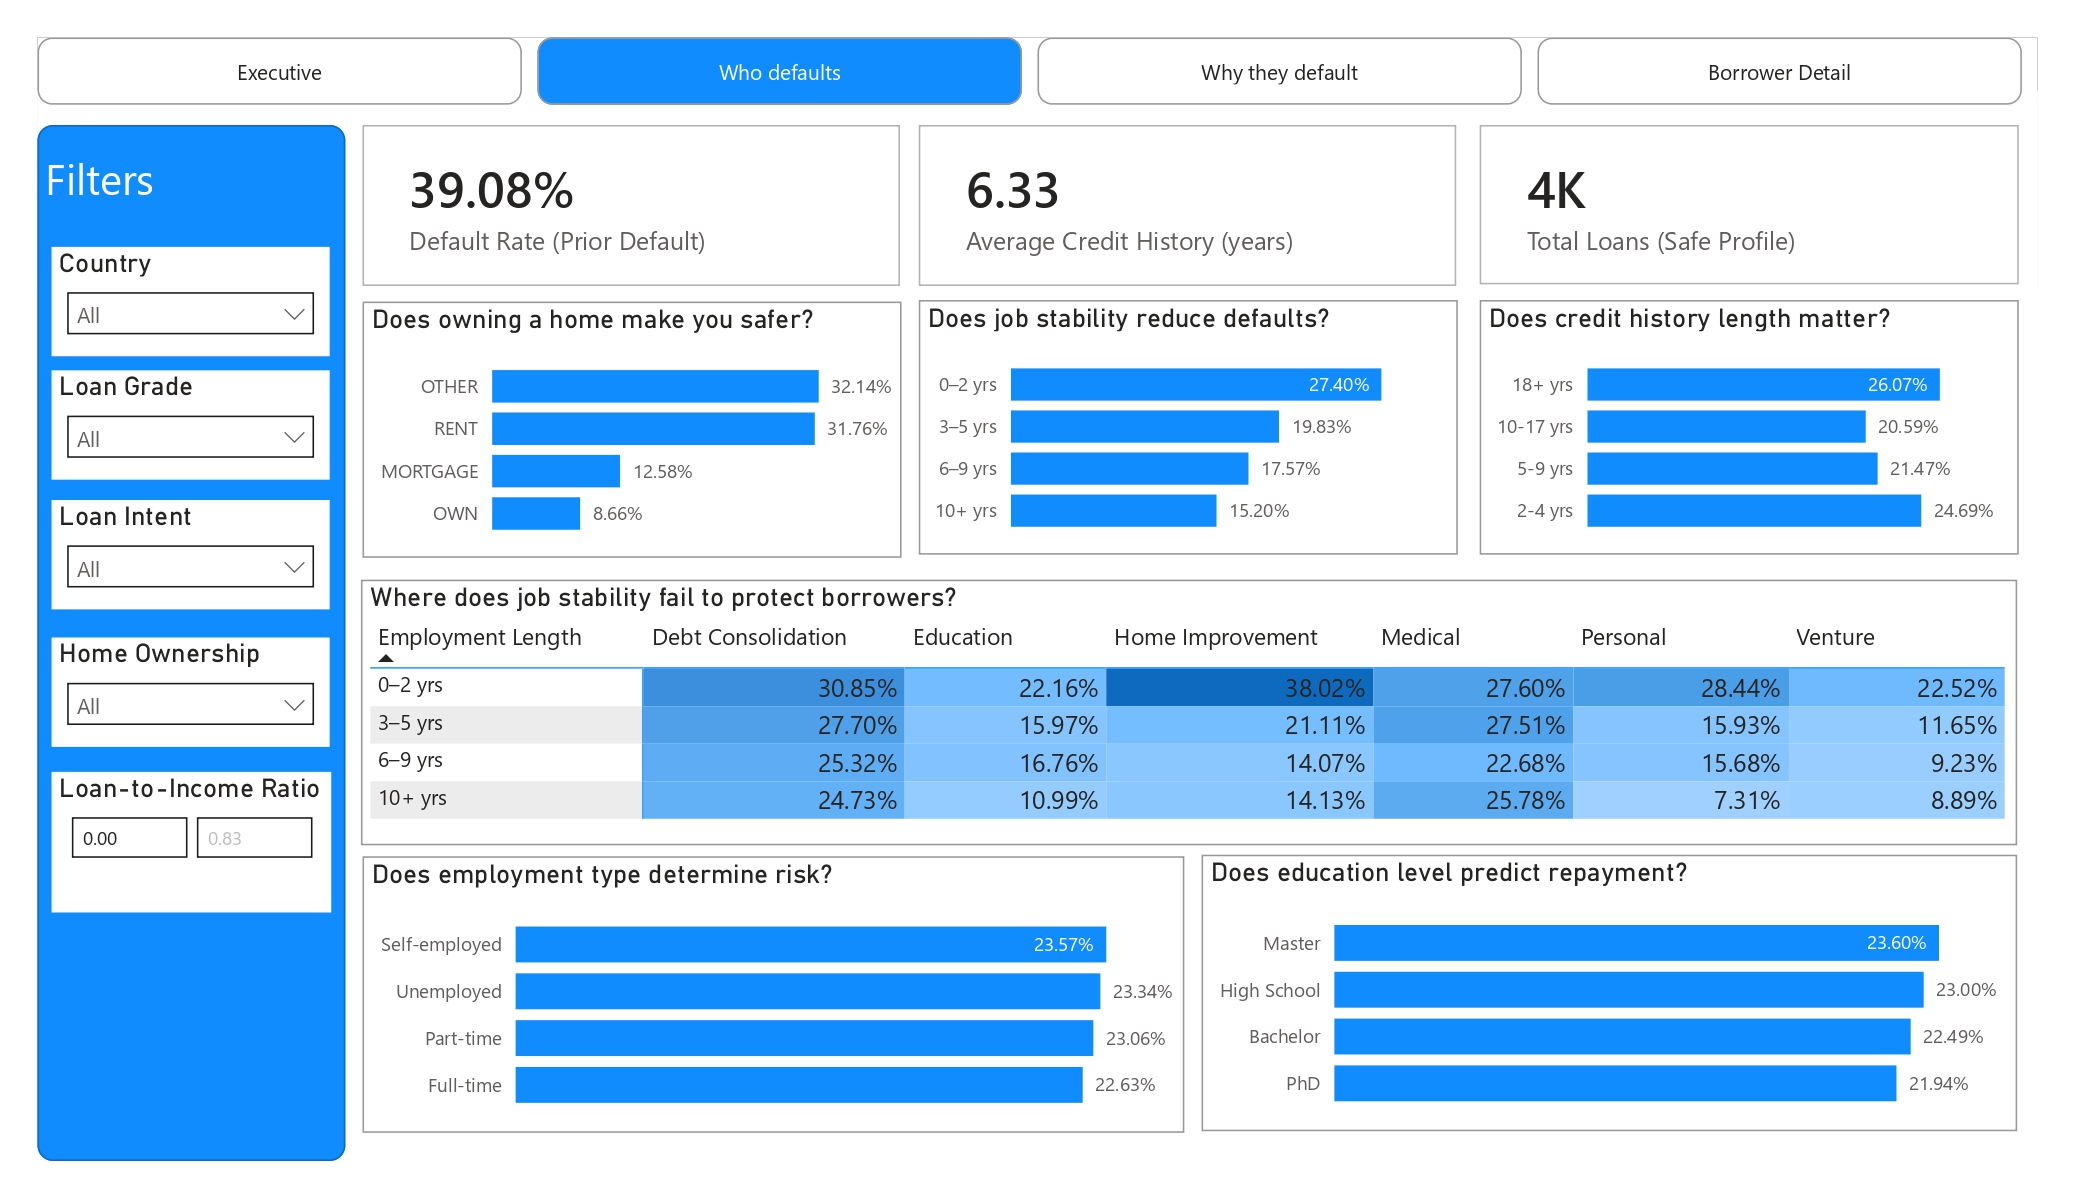

The page's visual inventory and layout, read from the dashboard file:
{"tool":"powerbi","page":{"name":"Who defaults","canvas":[1280,720],"ordinal":1},"visuals":[{"type":"shape","box":[0,55.7,197.1,662.9],"z":0},{"type":"cardVisual","fields":{"Data":["_Measures.Default Rate (Prior Default)"]},"box":[207.7,56,344.6,103.2],"z":2000},{"type":"cardVisual","fields":{"Data":["_Measures.Average Credit History"]},"box":[563.5,56,344.6,103.2],"z":3000},{"type":"clusteredBarChart","title":"Does education level predict repayment?","fields":{"Category":["Dim_Borrower.education_level"],"Y":["_Measures.Default Rate %"]},"box":[745,523.3,521.7,176.7],"z":4000},{"type":"clusteredBarChart","title":"Does job stability reduce defaults?","fields":{"Category":["Dim_Borrower.Emp_Length_Bucket"],"Y":["_Measures.Default Rate %"]},"box":[563.8,167.5,345,163.8],"z":5000},{"type":"cardVisual","fields":{"Data":["_Measures.Total Loans (Safe Profile)"]},"box":[923,56,344.6,102],"z":6000},{"type":"pageNavigator","box":[0,0,1272.9,42.9],"z":7000},{"type":"clusteredBarChart","title":"Does owning a home make you safer?","fields":{"Category":["Dim_Borrower.person_home_ownership"],"Y":["_Measures.Default Rate"]},"box":[207.5,168.8,345,163.8],"z":8000},{"type":"slicer","title":"Loan Grade","fields":{"Values":["Dim_Loan_Type.loan_grade"]},"box":[8.6,212.9,178.6,70],"z":9000},{"type":"slicer","title":"Loan Intent","fields":{"Values":["Dim_Loan_Type.loan_intent"]},"box":[8.6,295.7,178.6,70],"z":10000},{"type":"slicer","title":"Home Ownership","fields":{"Values":["Dim_Borrower.person_home_ownership"]},"box":[8.6,384.3,178.6,70],"z":11000},{"type":"textbox","box":[0,67.1,198.6,52.9],"z":12000},{"type":"slicer","title":"Country","fields":{"Values":["Dim_Geography.country"]},"box":[8.6,134.3,178.6,70],"z":14000},{"type":"slicer","title":"Loan-to-Income Ratio","fields":{"Values":["Fact_CreditRisk.loan_to_income_ratio"]},"box":[8.7,470.3,178.9,89.5],"z":15000},{"type":"pivotTable","title":"Where does job stability fail to protect borrowers?","fields":{"Columns":["Dim_Loan_Type.Loan_Intent_Label"],"Rows":["Dim_Borrower.Emp_Length_Bucket"],"Values":["_Measures.Default Rate %"]},"box":[206.7,346.7,1060,170],"z":16000},{"type":"clusteredBarChart","title":"Does employment type determine risk?","fields":{"Category":["Dim_Borrower.employment_type"],"Y":["_Measures.Default Rate %"]},"box":[208,524,526,177],"z":17000},{"type":"clusteredBarChart","title":"Does credit history length matter?","fields":{"Category":["Dim_Borrower.Credit_History_Bucket"],"Y":["_Measures.Default Rate"]},"box":[922.5,167.5,345,163.8],"z":18000}]}

Visuals, with their boxes on the page's 1280x720 design canvas (x1, y1, x2, y2). These are canvas units, not pixel positions in the 2075x1200 screenshot, which may show the page scaled, cropped or inside an application window:
shape: 0 56 197 719
cardVisual - _Measures.Default Rate (Prior Default): 208 56 552 159
cardVisual - _Measures.Average Credit History: 564 56 908 159
"Does education level predict repayment?" clusteredBarChart: 745 523 1267 700
"Does job stability reduce defaults?" clusteredBarChart: 564 168 909 331
cardVisual - _Measures.Total Loans (Safe Profile): 923 56 1268 158
pageNavigator: 0 0 1273 43
"Does owning a home make you safer?" clusteredBarChart: 208 169 552 333
"Loan Grade" slicer: 9 213 187 283
"Loan Intent" slicer: 9 296 187 366
"Home Ownership" slicer: 9 384 187 454
textbox: 0 67 199 120
"Country" slicer: 9 134 187 204
"Loan-to-Income Ratio" slicer: 9 470 188 560
"Where does job stability fail to protect borrowers?" pivotTable: 207 347 1267 517
"Does employment type determine risk?" clusteredBarChart: 208 524 734 701
"Does credit history length matter?" clusteredBarChart: 922 168 1268 331
